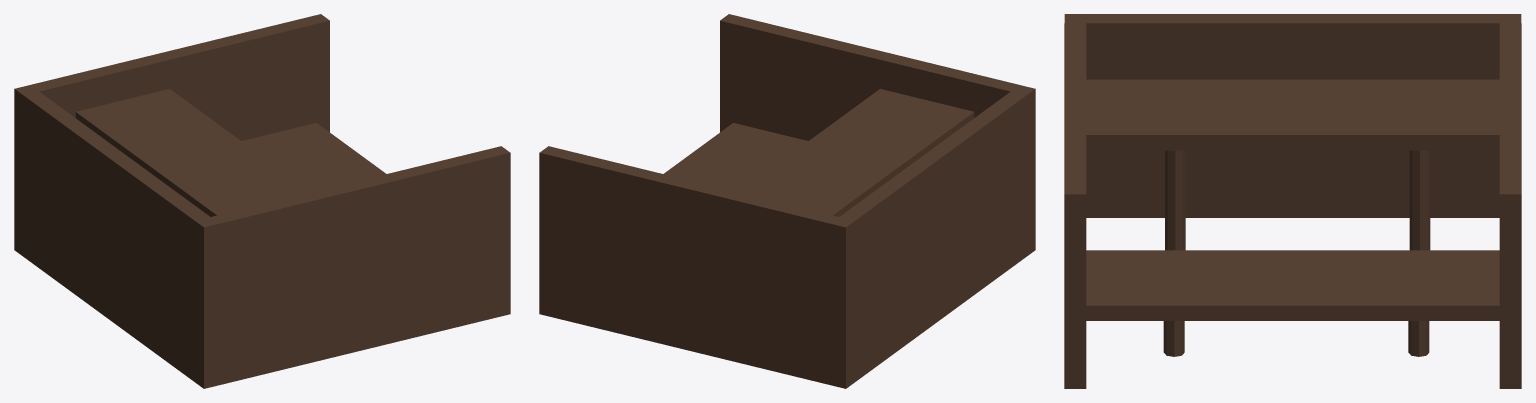
Rendered from Ladder.fbx.
3 renders of one model, left to right at view 1: azimuth 30°, elevation 25°; view 2: azimuth 150°, elevation 25°; view 3: azimuth 270°, elevation 25°, orthographic. The views are drawn at different scales.
Parts seen in each view (by area): view 1: Ladder; view 2: Ladder; view 3: Ladder.
Part boxes in pixels (bbox=[...]): Ladder: bbox=[14, 14, 510, 388]; Ladder: bbox=[539, 14, 1035, 388]; Ladder: bbox=[1064, 14, 1521, 388].
Bounding box in the file's own units: 122 × 61.59 × 131.
